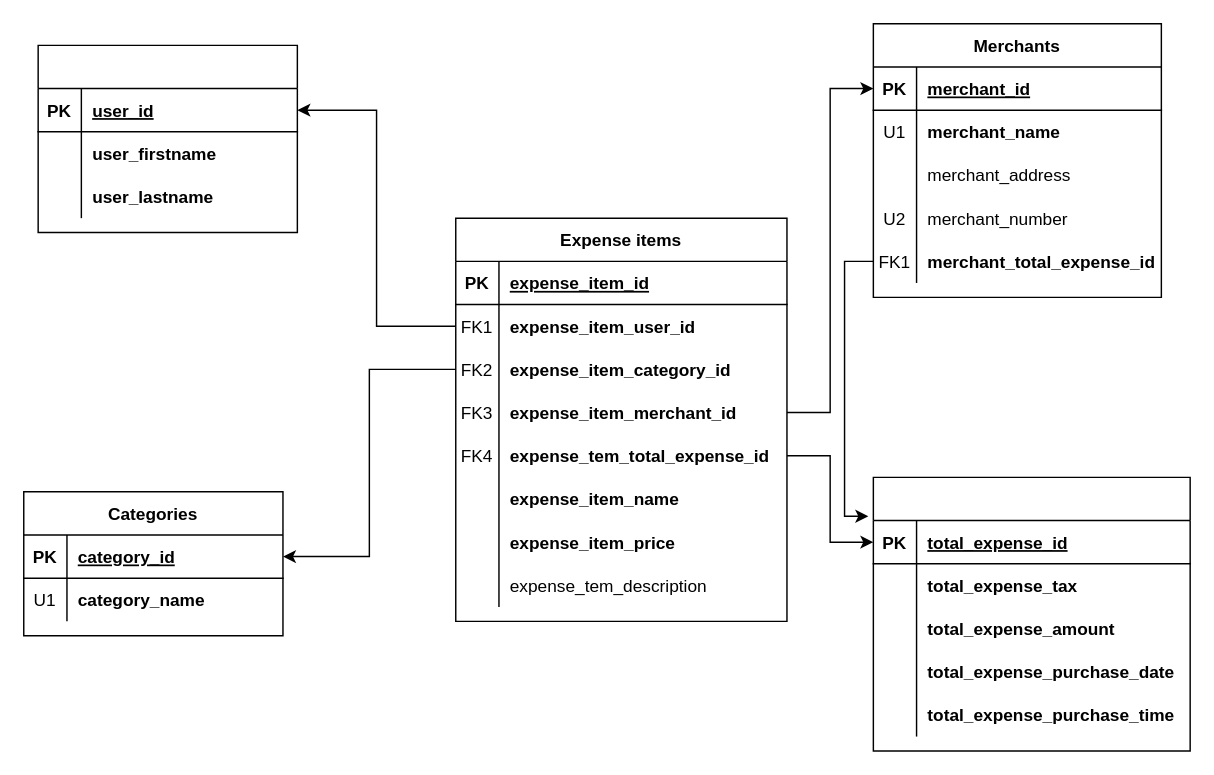
Some shapes in this 1214 by 775 pixel diagram are drawn without their labels. Here are the shapes that lost their labels. From the top down, the box of each, then its label:
(37, 44, 297, 233): Users
(872, 476, 1190, 751): Total Expenses
